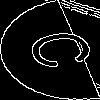C: (25, 25, 100, 72)
